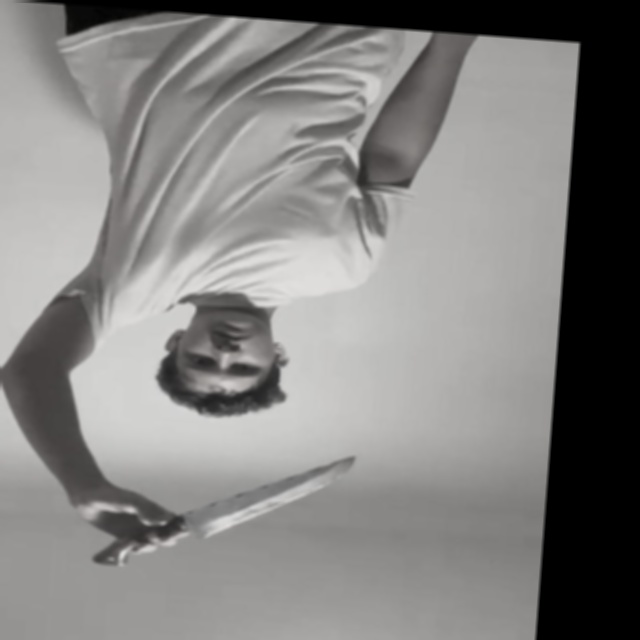Sharp-Object: (189, 446, 357, 551)
